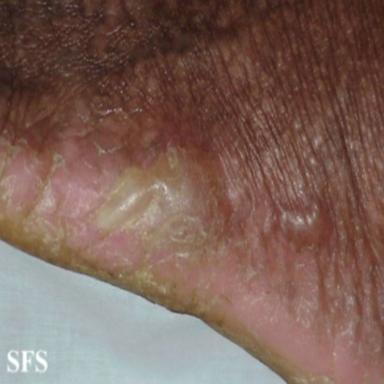Darier_s-Disease: (0, 137, 309, 384)
